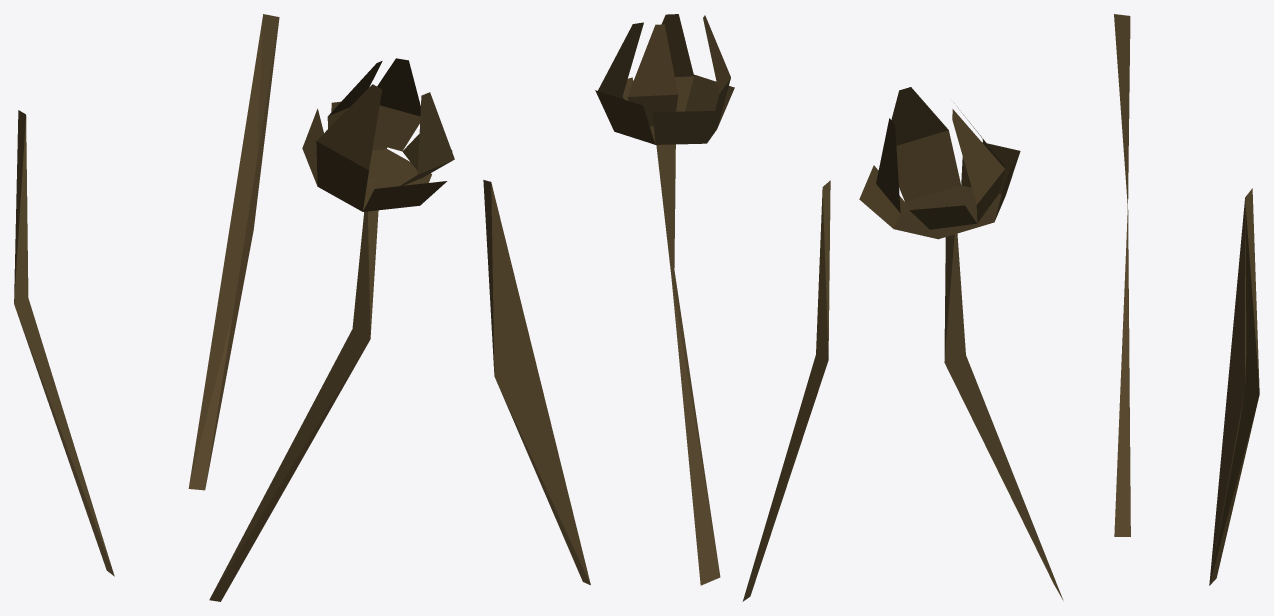
File: DeadFlowers2.fbx
3 views of the same model, side by side, from view 1: azimuth 30°, elevation 25°; view 2: azimuth 150°, elevation 25°; view 3: azimuth 270°, elevation 25° (orthographic). The views are drawn at different scales.
Parts seen in each view (by area): view 1: Cylinder.011; view 2: Cylinder.011; view 3: Cylinder.011.
Boxes of the visible parts, x1,y1,x2,y2 form: Cylinder.011: (14,14,454,601); Cylinder.011: (483,14,830,601); Cylinder.011: (859,14,1259,600).
Bounding box in the file's own units: 0.3276 × 0.5205 × 0.3419.
